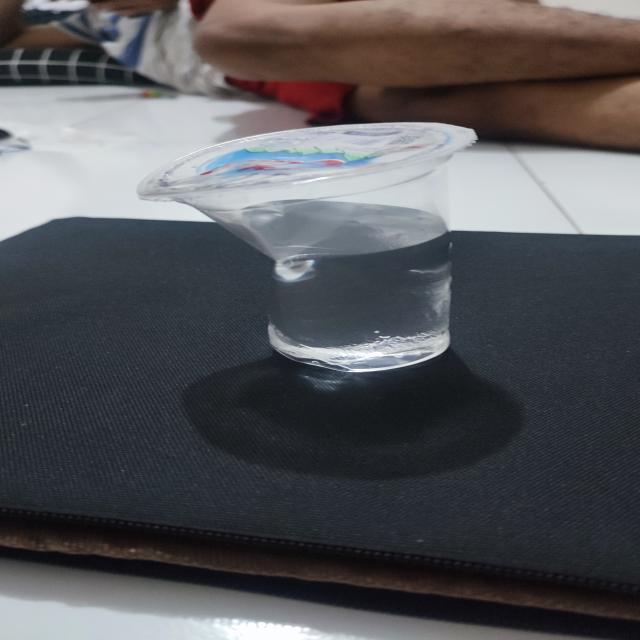air-gelas-rusak: (118, 121, 530, 382)
